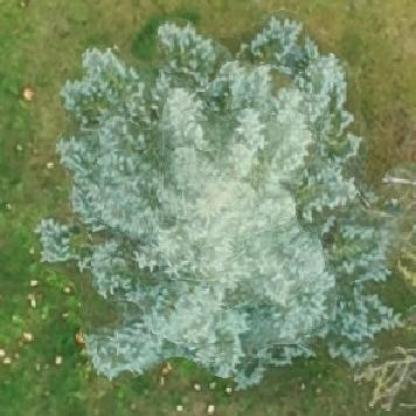Coniferous Tree: (21, 17, 369, 374)
